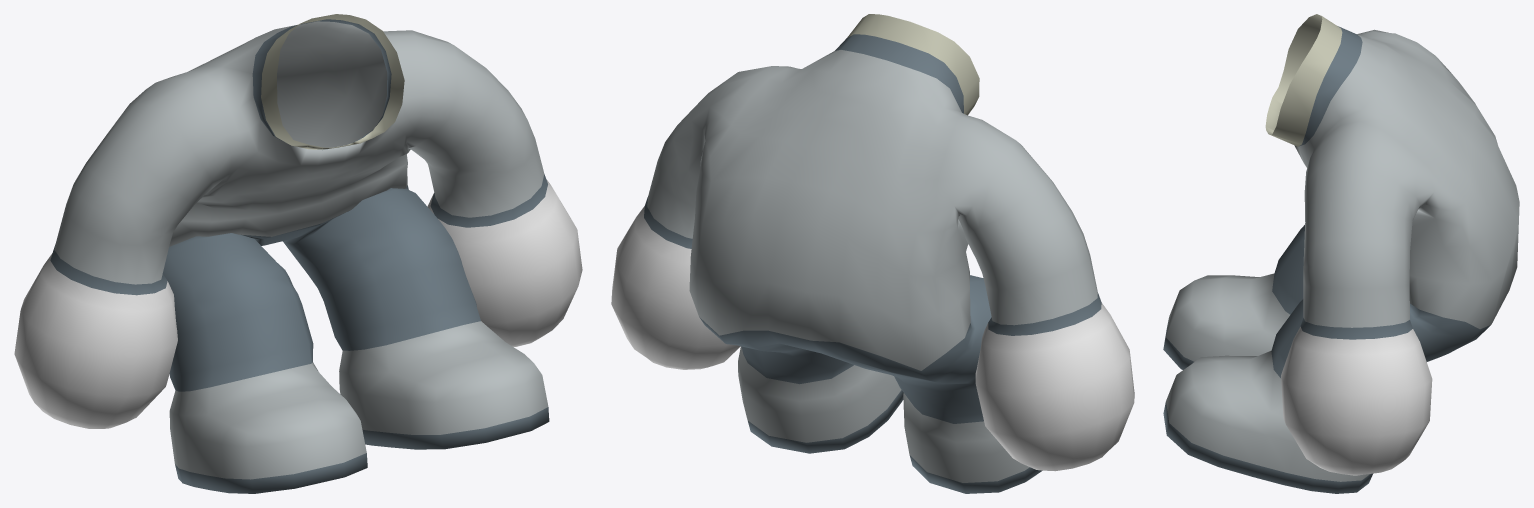
The model's file is scene_human1.fbx.
The picture shows the model from 3 angles, left to right: view 1: azimuth 30°, elevation 25°; view 2: azimuth 150°, elevation 25°; view 3: azimuth 270°, elevation 25°; orthographic projection. The views are drawn at different scales.
Visible parts, largest first — view 1: body_N1; view 2: body_N1; view 3: body_N1.
Boxes of the visible parts, bbox=[...] form: body_N1: bbox=[14, 14, 582, 493]; body_N1: bbox=[611, 14, 1134, 493]; body_N1: bbox=[1163, 14, 1519, 493].
Bounding box in the file's own units: 126 × 101 × 79.23.
